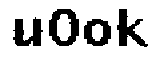0: (49, 4, 81, 50)
k: (118, 6, 151, 49)
o: (84, 16, 113, 48)
u: (10, 15, 43, 50)
